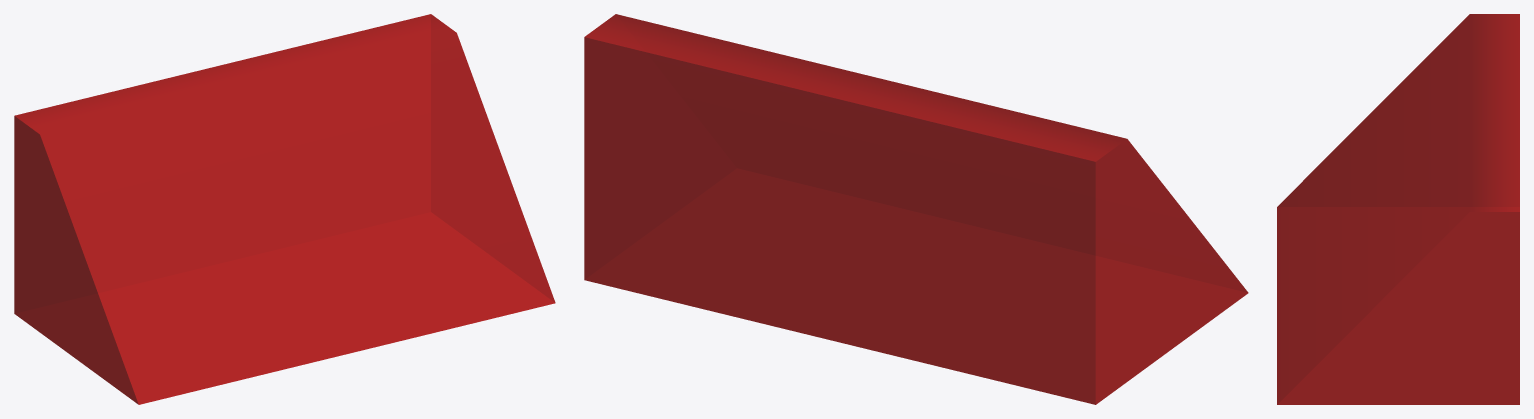
The model's file is SM_Bld_Village_Stairs_Small_02_Collision.fbx.
3 renders of one model, left to right at view 1: azimuth 30°, elevation 25°; view 2: azimuth 150°, elevation 25°; view 3: azimuth 270°, elevation 25°, orthographic. The views are drawn at different scales.
Parts seen in each view (by area): view 1: SM_Bld_Village_Stairs_Small_02_Collision; view 2: SM_Bld_Village_Stairs_Small_02_Collision; view 3: SM_Bld_Village_Stairs_Small_02_Collision.
Part boxes in pixels (x1,y1,x2,y2): SM_Bld_Village_Stairs_Small_02_Collision: (14,14,555,404); SM_Bld_Village_Stairs_Small_02_Collision: (584,14,1248,404); SM_Bld_Village_Stairs_Small_02_Collision: (1277,14,1519,404).
Bounding box in the file's own units: 184 × 83.41 × 95.11.
